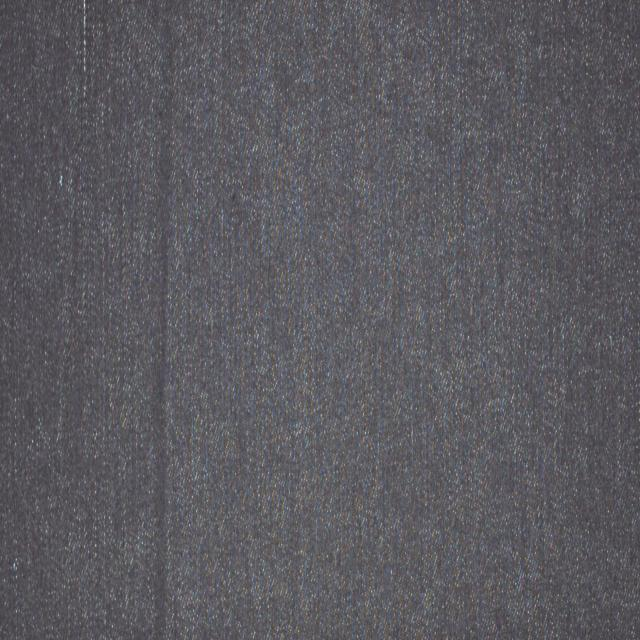Line: (151, 0, 173, 640)
